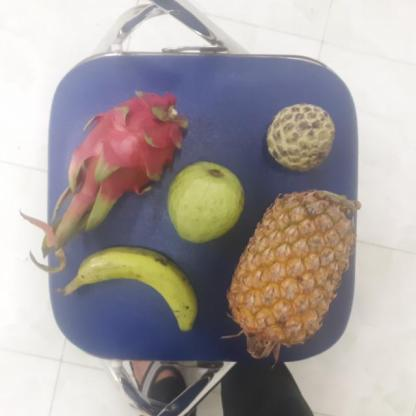annona: (264, 104, 336, 172)
banana: (67, 242, 203, 336)
guava: (164, 160, 246, 240)
pineapple: (230, 189, 354, 349)
pitaya: (69, 91, 183, 204)
